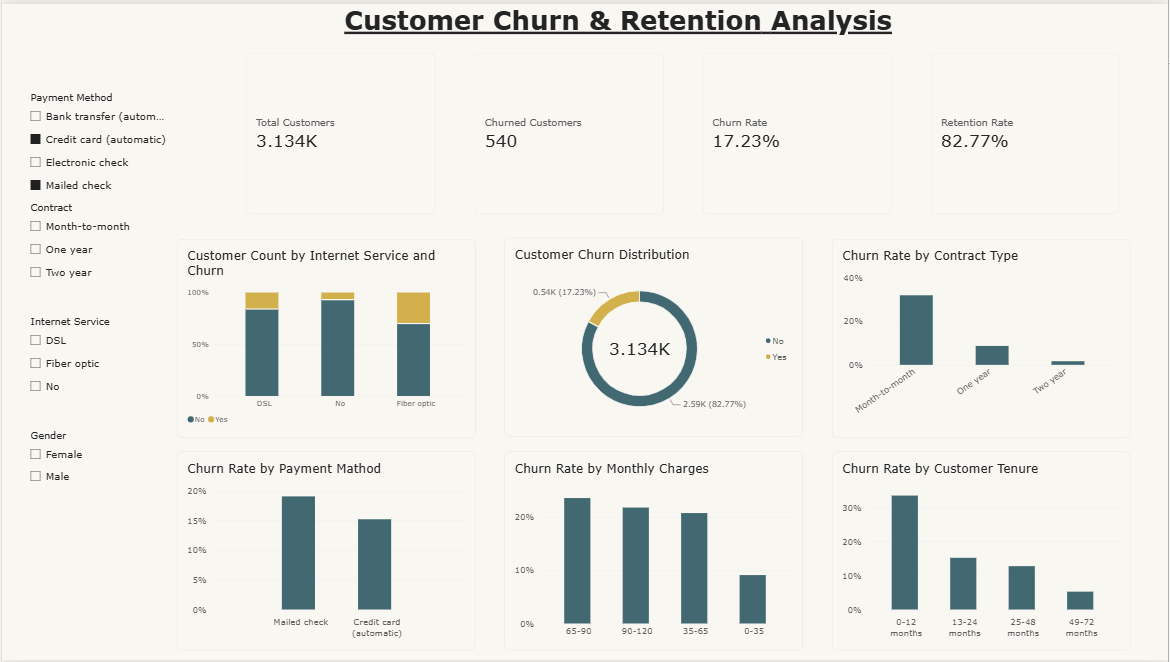

The dashboard page shown, as its layout file describes it:
{"tool":"powerbi","page":{"name":"Page 1","canvas":[1920,1080],"ordinal":0},"visuals":[{"type":"cardVisual","title":"Total Customers","fields":{"Data":["CountNonNull(customer_churn_cleaned.customerID)"]},"box":[401.4,80.3,312,265],"z":0},{"type":"cardVisual","fields":{"Data":["CountNonNull(customer_churn_cleaned.customerID)"]},"box":[777.1,80.3,312.9,265.5],"z":1000},{"type":"cardVisual","fields":{"Data":["customer_churn_cleaned.Customer Churn %"]},"box":[1153.6,80.3,312,265],"z":2000},{"type":"cardVisual","fields":{"Data":["customer_churn_cleaned.Retention_Rate"]},"box":[1529.3,80.3,312,265],"z":3000},{"type":"clusteredColumnChart","fields":{"Category":["customer_churn_cleaned.Contract"],"Y":["customer_churn_cleaned.Customer Churn %"]},"box":[1366.7,387,491,327],"z":4000},{"type":"clusteredColumnChart","fields":{"Category":["customer_churn_cleaned.TenureGroup"],"Y":["customer_churn_cleaned.Customer Churn %"]},"box":[1366.7,736.9,491,327],"z":5000},{"type":"clusteredColumnChart","fields":{"Category":["customer_churn_cleaned.PaymentMethod"],"Y":["customer_churn_cleaned.Customer Churn %"]},"box":[288.2,736.9,491,327],"z":6000},{"type":"clusteredColumnChart","fields":{"Category":["customer_churn_cleaned.MonthlyChargeGroup"],"Y":["customer_churn_cleaned.Customer Churn %"]},"box":[827.4,736.9,491,327],"z":7000},{"type":"donutChart","fields":{"Category":["customer_churn_cleaned.Churn"],"Y":["CountNonNull(customer_churn_cleaned.customerID)"]},"box":[827.9,384.9,491,327],"z":8000},{"type":"hundredPercentStackedColumnChart","fields":{"Category":["customer_churn_cleaned.InternetService"],"Series":["customer_churn_cleaned.Churn"],"Y":["CountNonNull(customer_churn_cleaned.customerID)"]},"box":[288.2,387,491.9,327.3],"z":9000},{"type":"slicer","fields":{"Values":["customer_churn_cleaned.Contract"]},"box":[39.1,325.9,236.7,189.4],"z":10000},{"type":"slicer","fields":{"Values":["customer_churn_cleaned.gender"]},"box":[39.1,699.8,236.7,191.4],"z":11000},{"type":"slicer","fields":{"Values":["customer_churn_cleaned.InternetService"]},"box":[39.1,511.8,236.7,191.4],"z":12000},{"type":"slicer","fields":{"Values":["customer_churn_cleaned.PaymentMethod"]},"box":[39.1,144.1,236.7,185.2],"z":13000},{"type":"textbox","box":[557.8,0,907.7,80.3],"z":14000}]}

Visuals, with their boxes in screenshot pixels (x1, y1, x2, y2), scaled from the page's 1920x1080 canvas onto the 1170x662 screenshot:
"Total Customers" cardVisual: pyautogui.locateOnScreen(245, 49, 435, 212)
cardVisual - CountNonNull(customer_churn_cleaned.customerID): pyautogui.locateOnScreen(474, 49, 664, 212)
cardVisual - customer_churn_cleaned.Customer Churn %: pyautogui.locateOnScreen(703, 49, 893, 212)
cardVisual - customer_churn_cleaned.Retention_Rate: pyautogui.locateOnScreen(932, 49, 1122, 212)
clusteredColumnChart - customer_churn_cleaned.Contract x customer_churn_cleaned.Customer Churn %: pyautogui.locateOnScreen(833, 237, 1132, 438)
clusteredColumnChart - customer_churn_cleaned.TenureGroup x customer_churn_cleaned.Customer Churn %: pyautogui.locateOnScreen(833, 452, 1132, 652)
clusteredColumnChart - customer_churn_cleaned.PaymentMethod x customer_churn_cleaned.Customer Churn %: pyautogui.locateOnScreen(176, 452, 475, 652)
clusteredColumnChart - customer_churn_cleaned.MonthlyChargeGroup x customer_churn_cleaned.Customer Churn %: pyautogui.locateOnScreen(504, 452, 803, 652)
donutChart - customer_churn_cleaned.Churn x CountNonNull(customer_churn_cleaned.customerID): pyautogui.locateOnScreen(505, 236, 804, 436)
hundredPercentStackedColumnChart - customer_churn_cleaned.InternetService x customer_churn_cleaned.Churn: pyautogui.locateOnScreen(176, 237, 475, 438)
slicer - customer_churn_cleaned.Contract: pyautogui.locateOnScreen(24, 200, 168, 316)
slicer - customer_churn_cleaned.gender: pyautogui.locateOnScreen(24, 429, 168, 546)
slicer - customer_churn_cleaned.InternetService: pyautogui.locateOnScreen(24, 314, 168, 431)
slicer - customer_churn_cleaned.PaymentMethod: pyautogui.locateOnScreen(24, 88, 168, 202)
textbox: pyautogui.locateOnScreen(340, 0, 893, 49)
